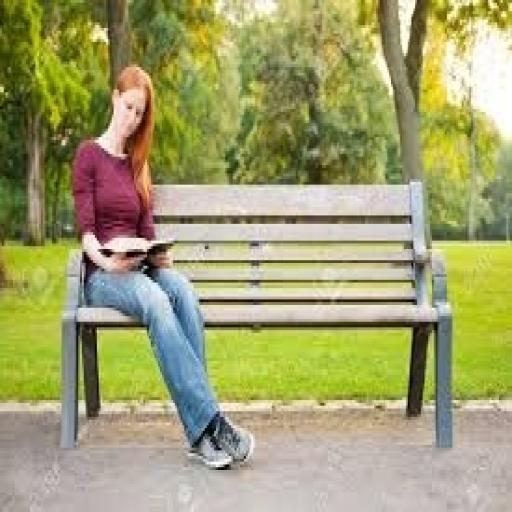sitting: (69, 59, 255, 470)
